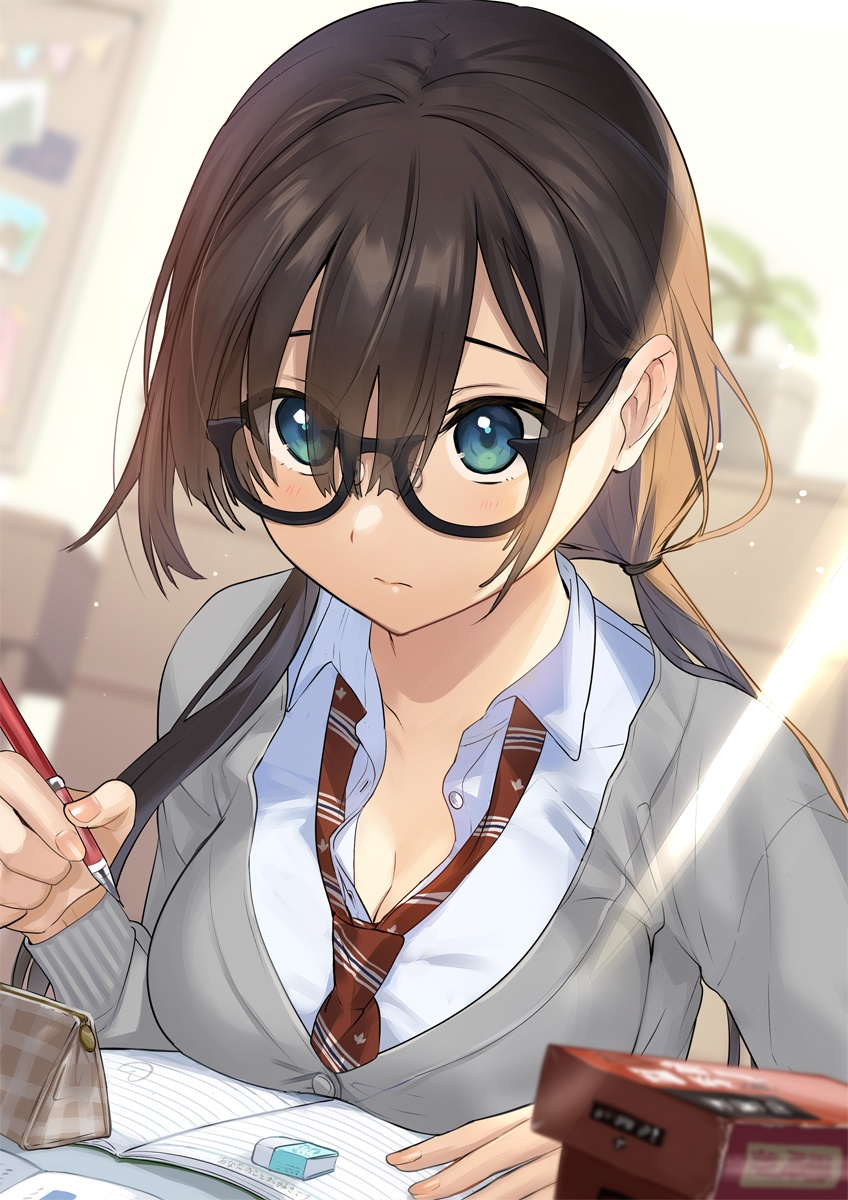纸片人正脸: (143, 3, 706, 655)
